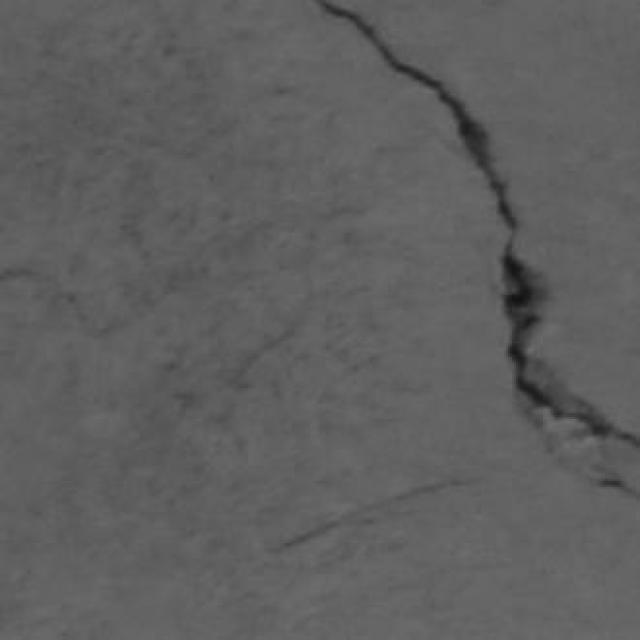crack: (315, 0, 639, 459), (272, 480, 471, 554)
